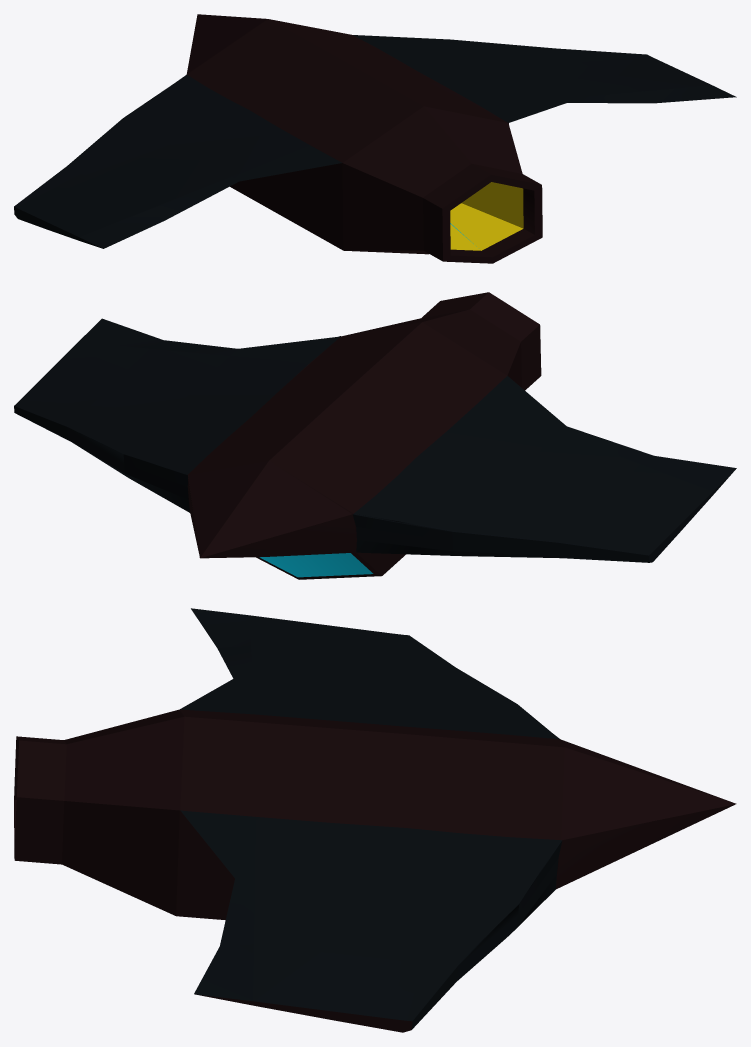
The model's file is ship5.obj.
The picture shows the model from 3 angles, top to bottom: view 1: azimuth 30°, elevation 25°; view 2: azimuth 150°, elevation 25°; view 3: azimuth 270°, elevation 25°; orthographic projection. The views are drawn at different scales.
Visible parts, largest first — view 1: Cube_Cube.002; view 2: Cube_Cube.002; view 3: Cube_Cube.002.
Part boxes in pixels (x1,y1,x2,y2): Cube_Cube.002: (14,14,736,263); Cube_Cube.002: (14,292,736,579); Cube_Cube.002: (14,608,736,1032).
Bounding box in the file's own units: 2.26 × 0.565 × 1.81.
